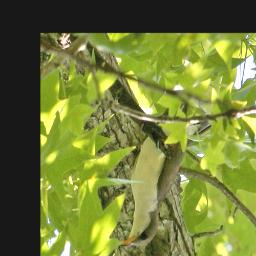Cuckoo: (117, 101, 212, 251)
